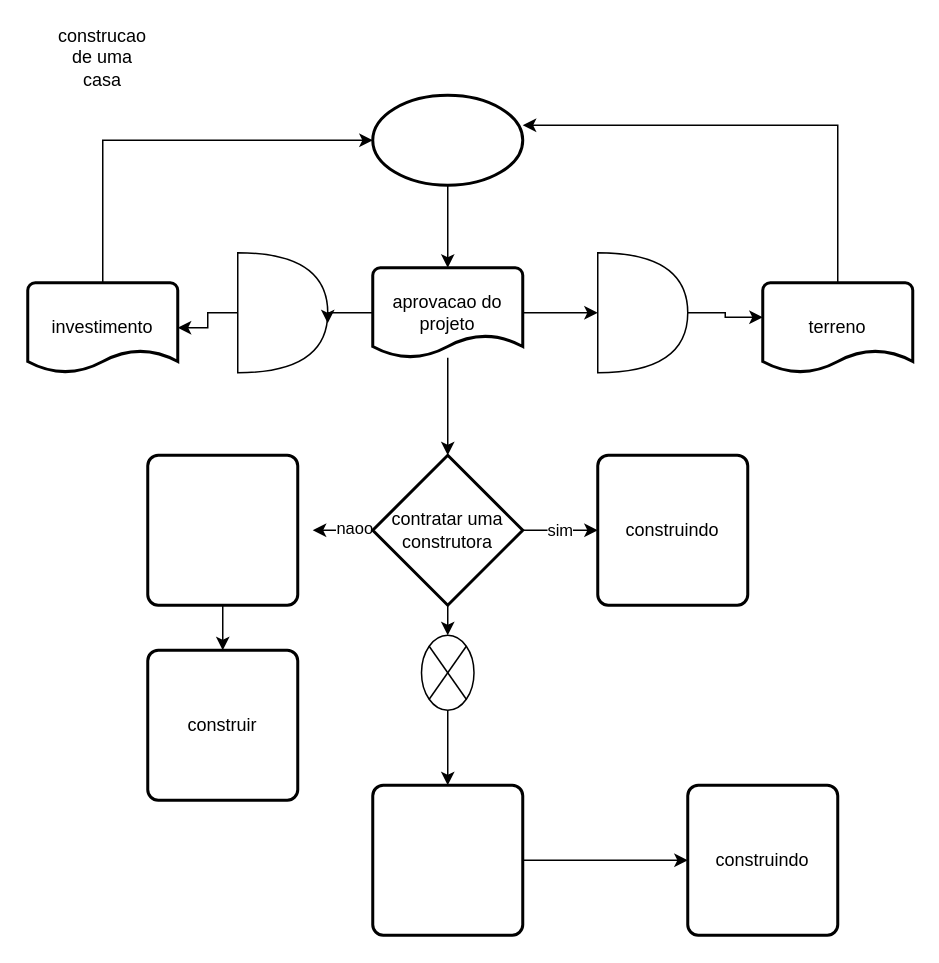
Image size: 939x963. Some labels were removed from this diagram. Here are the shapes that lost their labels. From the top down, the centre of each, then its label:
pixel 447 139: inicio
pixel 222 529: contratar um mestre de obrasco
pixel 447 859: pedir que algum amigo ou parente que saiba fazer esse serviço construa para voce
